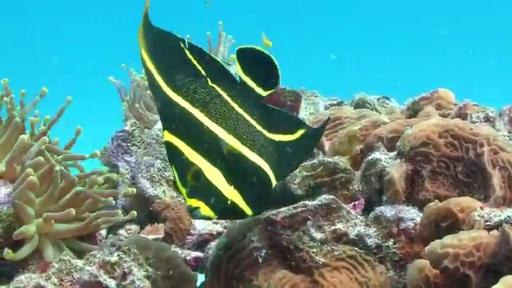Fish: (139, 1, 327, 219)
